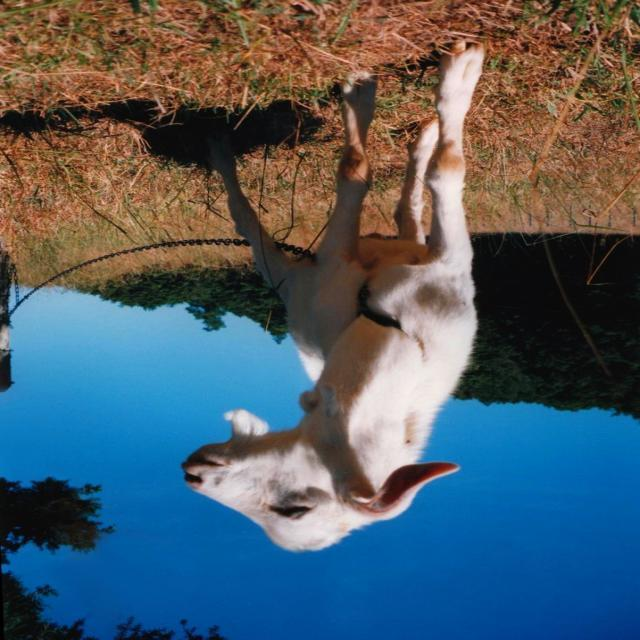Goat: (182, 39, 488, 554)
